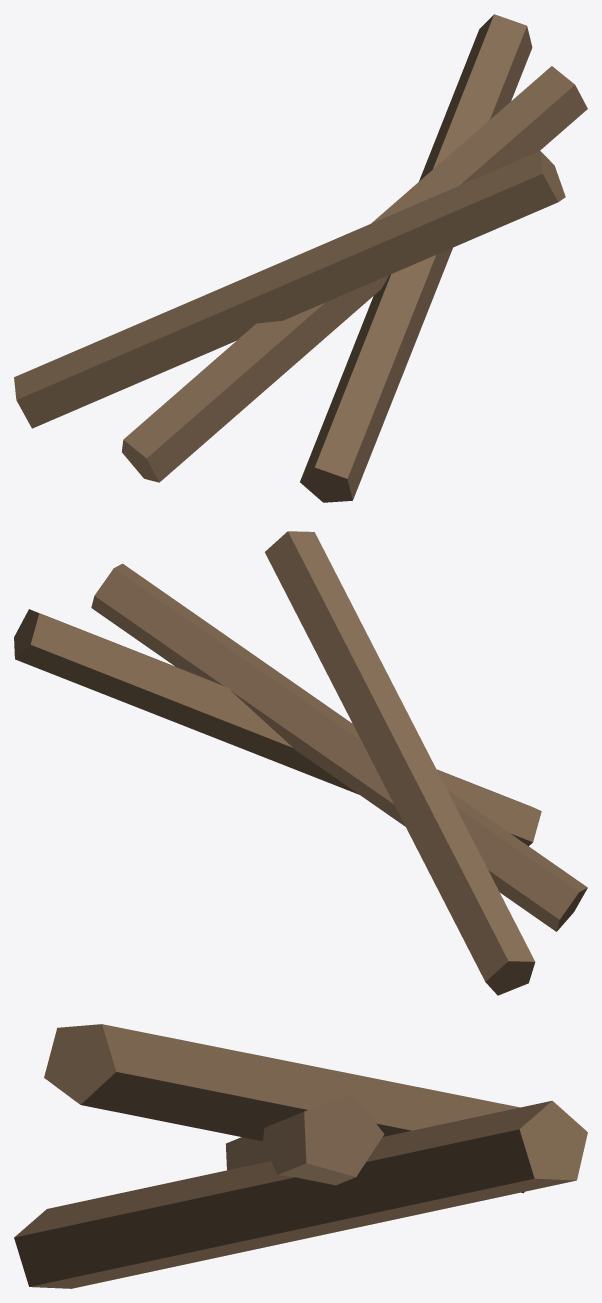
The model's file is roots.glb.
3 views of the same model, one above another, from view 1: azimuth 30°, elevation 25°; view 2: azimuth 150°, elevation 25°; view 3: azimuth 270°, elevation 25° (orthographic). The views are drawn at different scales.
Parts seen in each view (by area): view 1: roots; view 2: roots; view 3: roots.
Part boxes in pixels (x1,y1,x2,y2): roots: (14,14,587,502); roots: (14,531,587,995); roots: (14,1024,587,1288).
Bounding box in the file's own units: 0.8229 × 0.4307 × 0.5215.
